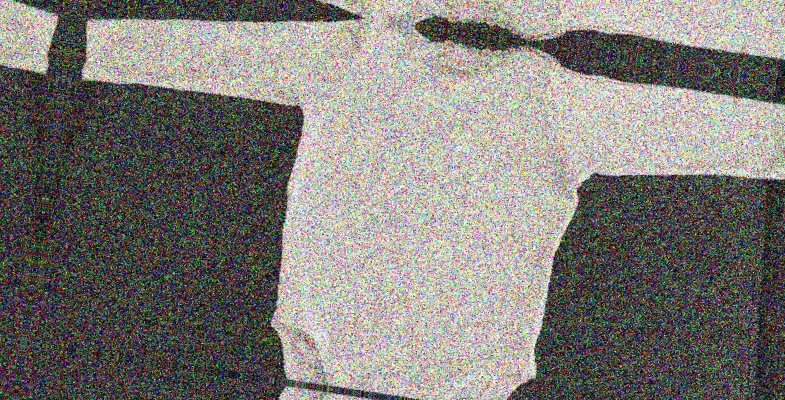Body: (32, 0, 785, 400), (88, 0, 785, 83), (0, 349, 763, 400), (0, 0, 70, 337), (0, 235, 14, 400)
